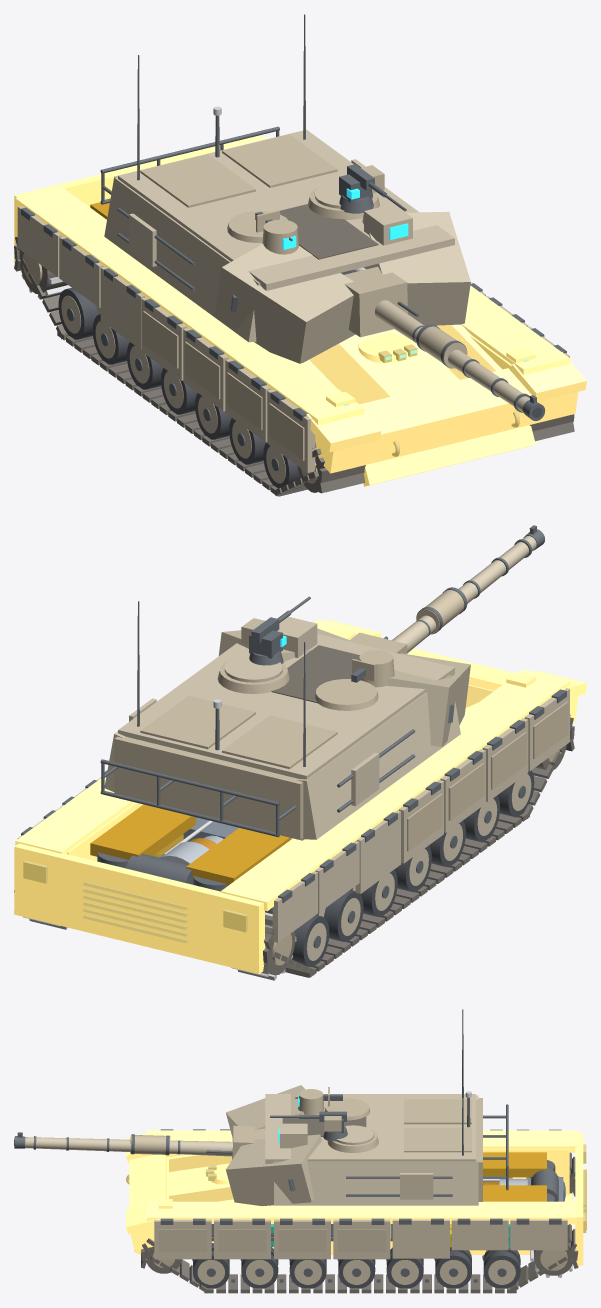
The model's file is gun_m4a1.glb.
3 renders of one model, top to bottom at view 1: azimuth 30°, elevation 25°; view 2: azimuth 150°, elevation 25°; view 3: azimuth 270°, elevation 25°, orthographic. The views are drawn at different scales.
Parts seen in each view (by area): view 1: turret_shell, hull_armor, side_skirts, suspension_wheels, tracks_assembly, main_gun, crows_optics; view 2: turret_shell, hull_armor, side_skirts, suspension_wheels, cooling_tms, tracks_assembly, crows_optics, main_gun, engine_agt1500, transmission_x1100; view 3: turret_shell, hull_armor, side_skirts, suspension_wheels, tracks_assembly, main_gun, crows_optics, cooling_tms, transmission_x1100.
Part boxes in pixels (left/top/right/bottom): turret_shell: left=100, top=126, right=470, bottom=363; hull_armor: left=14, top=135, right=586, bottom=486; side_skirts: left=17, top=206, right=569, bottom=472; suspension_wheels: left=58, top=288, right=300, bottom=488; tracks_assembly: left=14, top=236, right=574, bottom=496; main_gun: left=341, top=266, right=545, bottom=420; crows_optics: left=137, top=14, right=412, bottom=254; turret_shell: left=100, top=628, right=470, bottom=840; hull_armor: left=14, top=619, right=586, bottom=973; side_skirts: left=17, top=687, right=569, bottom=942; suspension_wheels: left=292, top=770, right=534, bottom=966; cooling_tms: left=90, top=804, right=291, bottom=891; tracks_assembly: left=14, top=714, right=574, bottom=980; crows_optics: left=137, top=596, right=394, bottom=766; main_gun: left=348, top=525, right=544, bottom=653; engine_agt1500: left=159, top=817, right=238, bottom=864; transmission_x1100: left=126, top=854, right=193, bottom=884; turret_shell: left=225, top=1085, right=508, bottom=1206; hull_armor: left=126, top=1130, right=586, bottom=1265; side_skirts: left=154, top=1129, right=567, bottom=1259; suspension_wheels: left=192, top=1243, right=520, bottom=1288; tracks_assembly: left=141, top=1152, right=578, bottom=1293; main_gun: left=14, top=1125, right=265, bottom=1159; crows_optics: left=270, top=1009, right=471, bottom=1155; cooling_tms: left=483, top=1152, right=555, bottom=1201; transmission_x1100: left=526, top=1168, right=565, bottom=1201.
Size of the model in its own units: 3.77 by 4.05 by 9.93.
